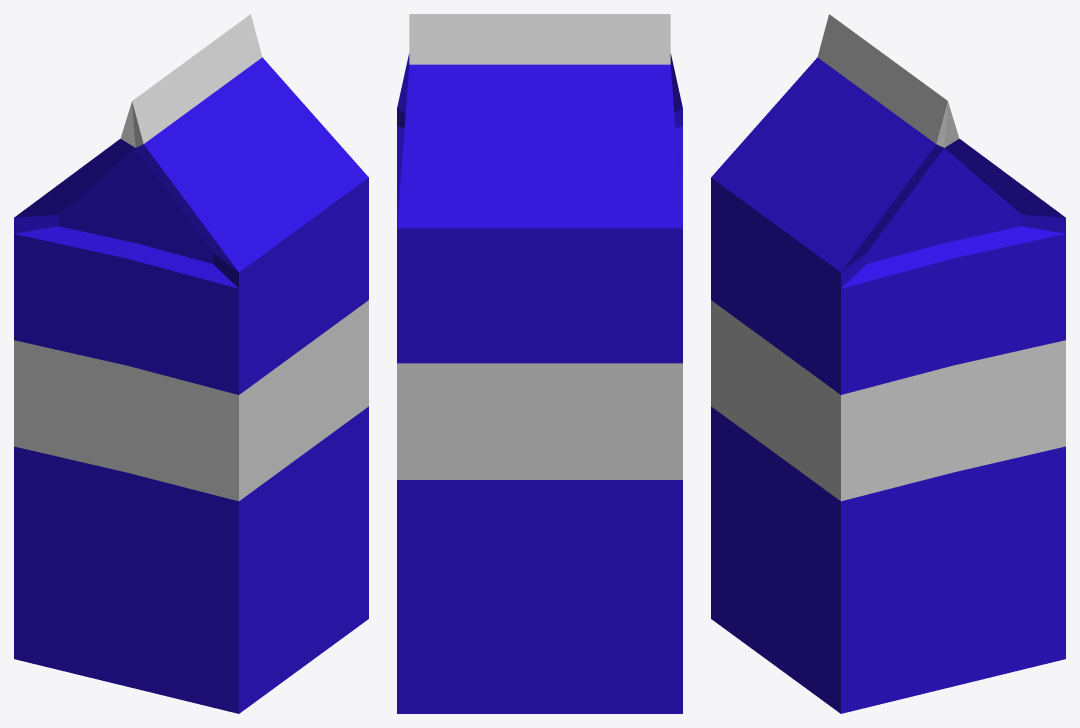
Rendered from Milk_Item.fbx.
The picture shows the model from 3 angles, left to right: view 1: azimuth 30°, elevation 25°; view 2: azimuth 150°, elevation 25°; view 3: azimuth 270°, elevation 25°; orthographic projection. The views are drawn at different scales.
Parts seen in each view (by area): view 1: Milk; view 2: Milk; view 3: Milk.
Part boxes in pixels (x1=…): Milk: x1=14, y1=14, x2=368, y2=713; Milk: x1=397, y1=14, x2=682, y2=713; Milk: x1=711, y1=14, x2=1065, y2=713.
Size of the model in its own units: 131 by 237 by 131.
